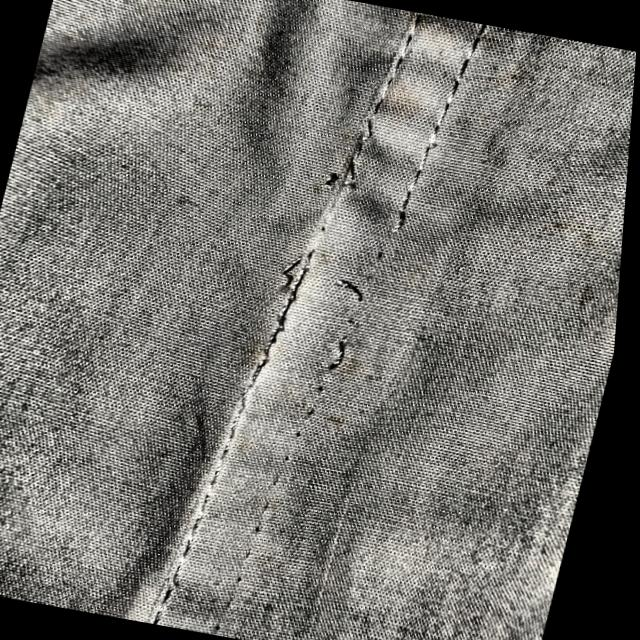Stitch: (202, 157, 438, 434)
